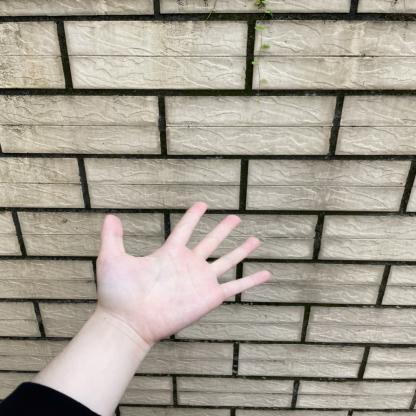bare_hand: (90, 195, 276, 343)
